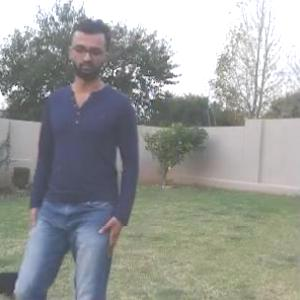follow: (36, 19, 132, 299)
